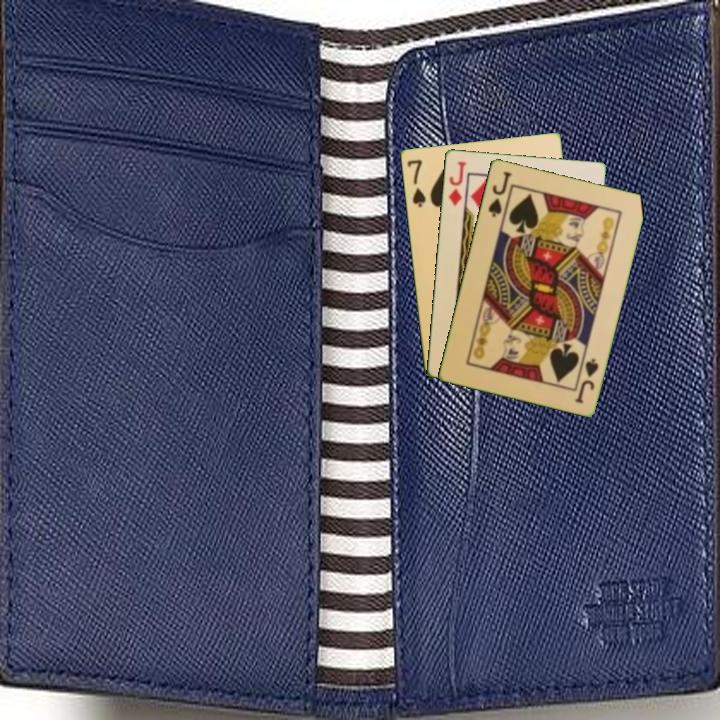7s: (404, 156, 428, 210)
Jd: (445, 158, 469, 208)
Js: (484, 167, 515, 220), (571, 354, 601, 406)
